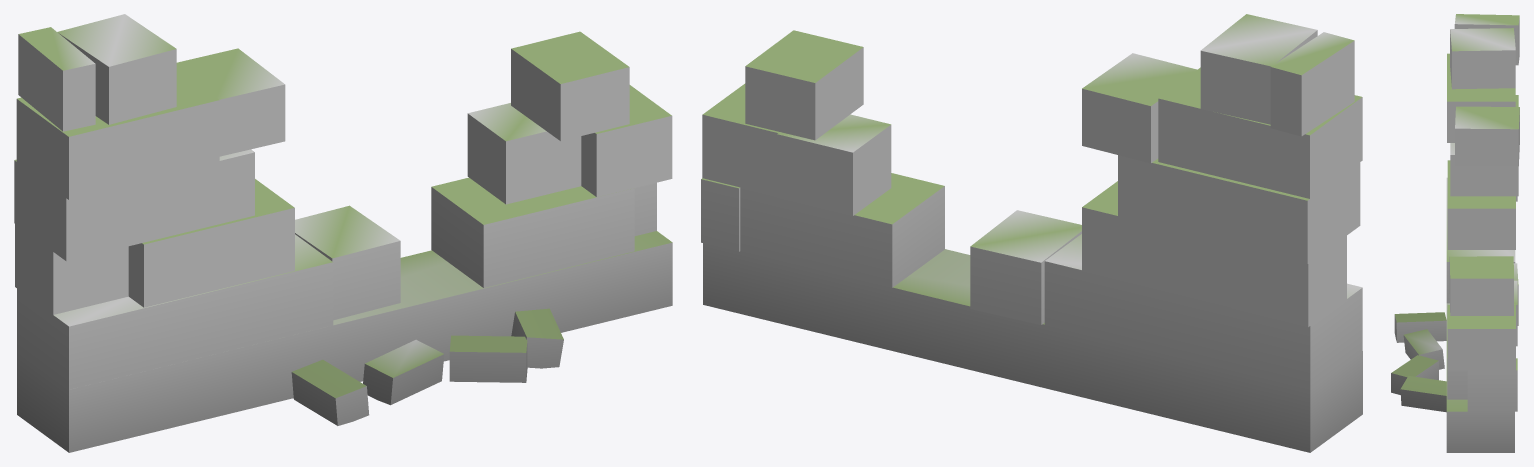
The model's file is ruin_wall_broken.glb.
3 renders of one model, left to right at view 1: azimuth 30°, elevation 25°; view 2: azimuth 150°, elevation 25°; view 3: azimuth 270°, elevation 25°, orthographic. The views are drawn at different scales.
Visible parts, largest first — view 1: ruin_wall_broken; view 2: ruin_wall_broken; view 3: ruin_wall_broken.
Part boxes in pixels (left/top/right/bottom): ruin_wall_broken: left=14, top=14, right=672, bottom=452; ruin_wall_broken: left=701, top=14, right=1362, bottom=452; ruin_wall_broken: left=1391, top=14, right=1519, bottom=452.
Bounding box in the file's own units: 4 × 2.39 × 1.13.
